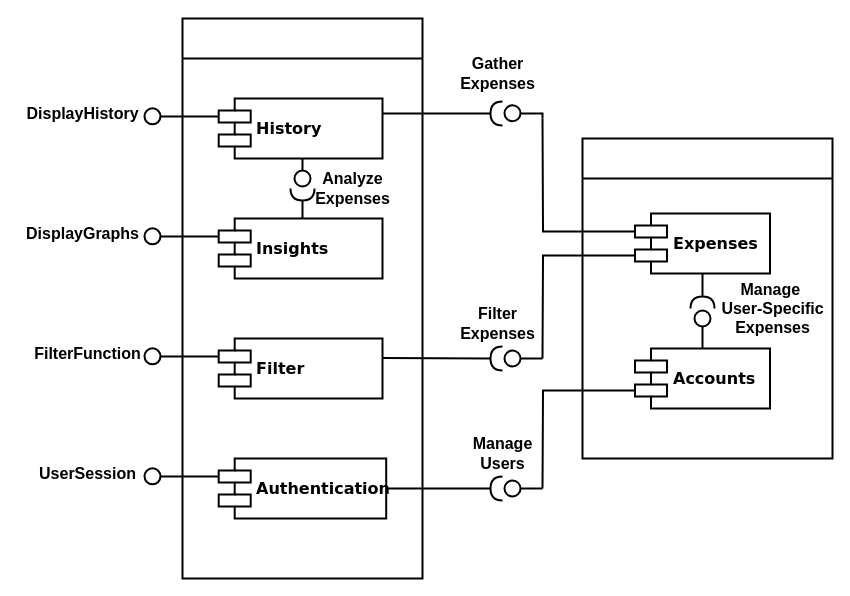
Image size: 850x596. Some labels were removed from this diagram. The box of each missing label's shape, as (x1, y1, x2, y2) in pixels:
<<subsystem>> Database: (581, 137, 833, 459)
<<subsystem>> Expense Management: (181, 17, 423, 579)
